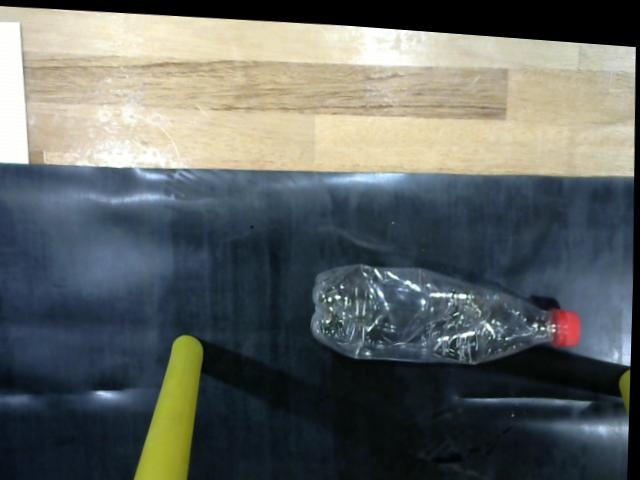bottle: (303, 246, 592, 364)
